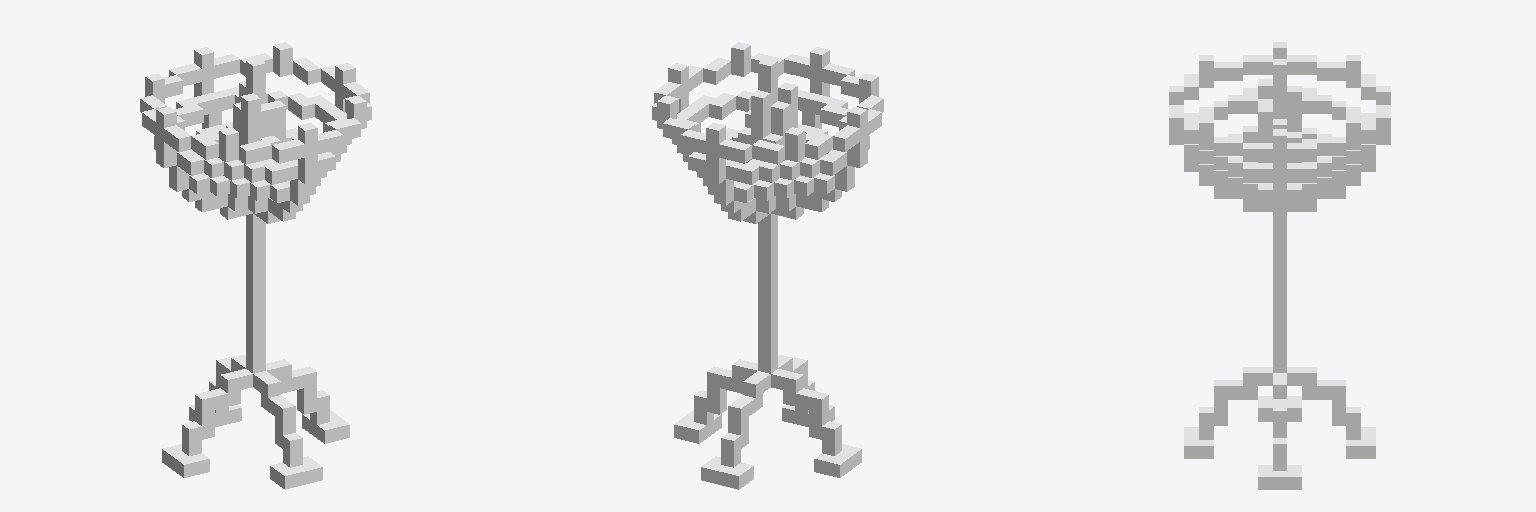
The model's file is brazier.obj.
3 renders of one model, left to right at view 1: azimuth 30°, elevation 25°; view 2: azimuth 150°, elevation 25°; view 3: azimuth 270°, elevation 25°, orthographic.
Visible parts, largest first — view 1: brazier; view 2: brazier; view 3: brazier.
Boxes of the visible parts, box(x1,y1,x2,y2) form: brazier: box(140, 42, 371, 489); brazier: box(652, 42, 883, 489); brazier: box(1169, 42, 1390, 489).
Bounding box in the file's own units: 1.5 × 2.9 × 1.5.